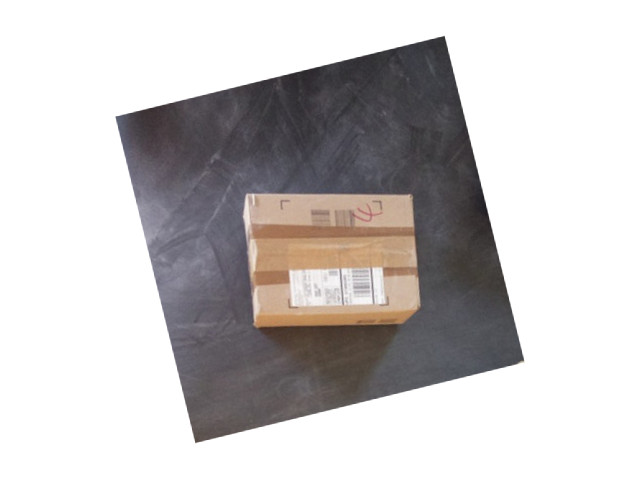cardboard: (241, 193, 419, 325)
